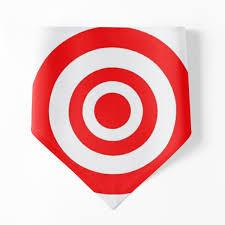target_red: (30, 25, 192, 208)
